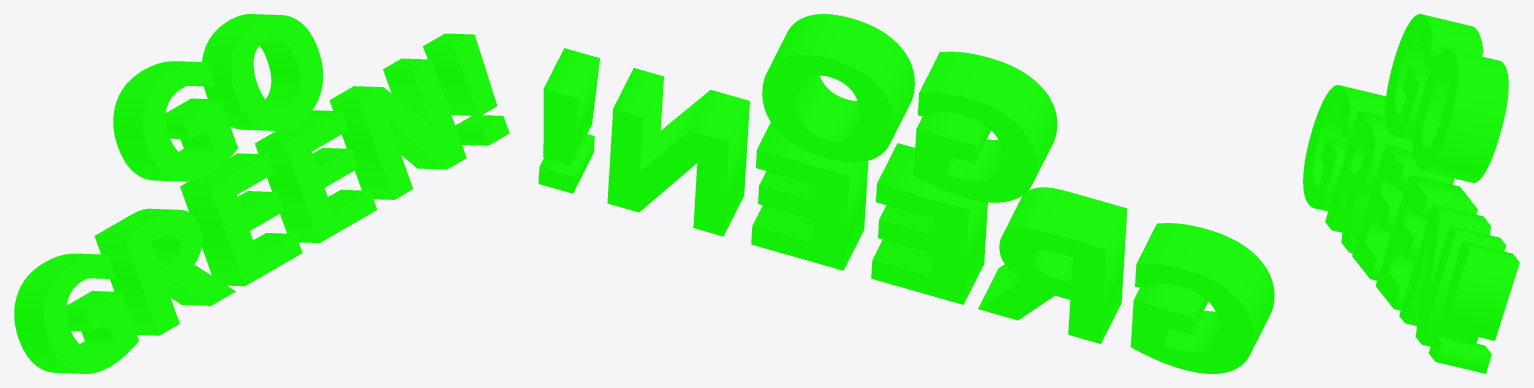
File: gogreen.glb
3 views of the same model, side by side, from view 1: azimuth 30°, elevation 25°; view 2: azimuth 150°, elevation 25°; view 3: azimuth 270°, elevation 25° (orthographic). The views are drawn at different scales.
Visible parts, largest first — view 1: Text; view 2: Text; view 3: Text.
Part boxes in pixels (box(x1,y1,x2,y2)): Text: box(14, 14, 509, 373); Text: box(538, 14, 1274, 373); Text: box(1303, 14, 1519, 373).
Bounding box in the file's own units: 2.95 × 1.4 × 0.9625.
